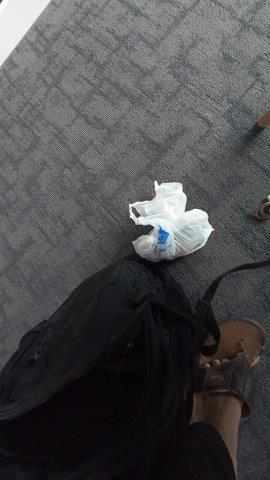plastik: (130, 182, 213, 261)
